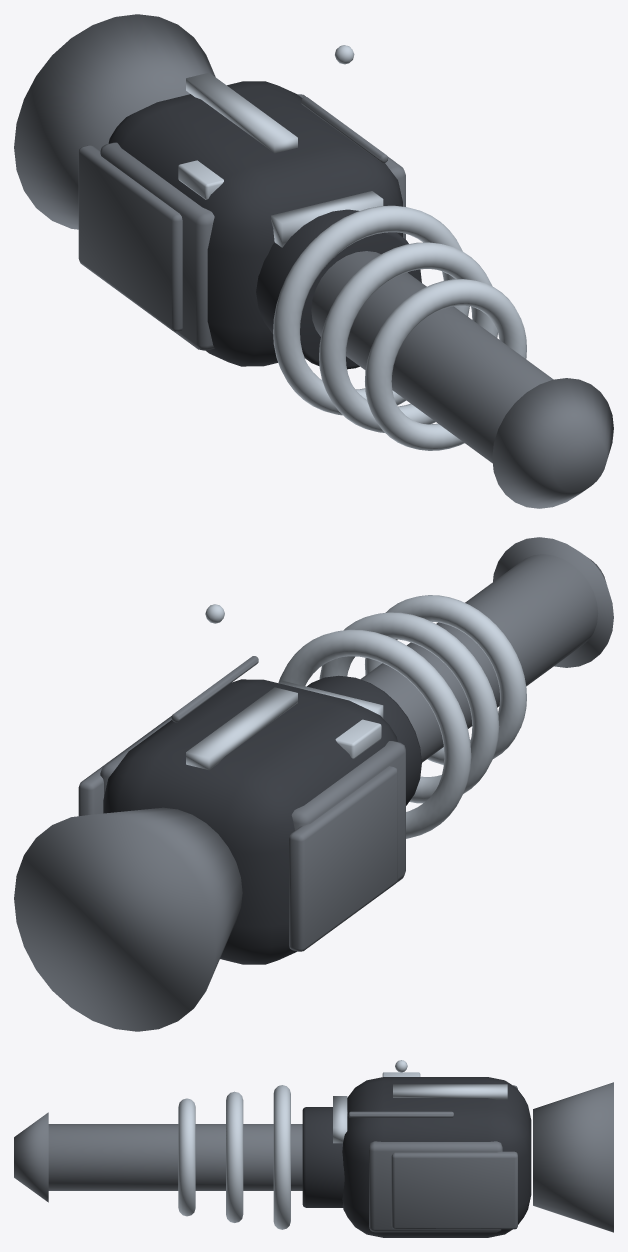
Rendered from weapon_drone_plasma_rep.glb.
3 views of the same model, one above another, from view 1: azimuth 30°, elevation 25°; view 2: azimuth 150°, elevation 25°; view 3: azimuth 270°, elevation 25° (orthographic). The views are drawn at different scales.
Visible parts, largest first — view 1: weapon_drone_plasma_rep; view 2: weapon_drone_plasma_rep; view 3: weapon_drone_plasma_rep.
Boxes of the visible parts, box(x1,y1,x2,y2) form: weapon_drone_plasma_rep: box(14, 14, 613, 508); weapon_drone_plasma_rep: box(14, 537, 613, 1031); weapon_drone_plasma_rep: box(14, 1060, 613, 1237).
Size of the model in its own units: 0.5808 by 0.7068 by 2.07.
